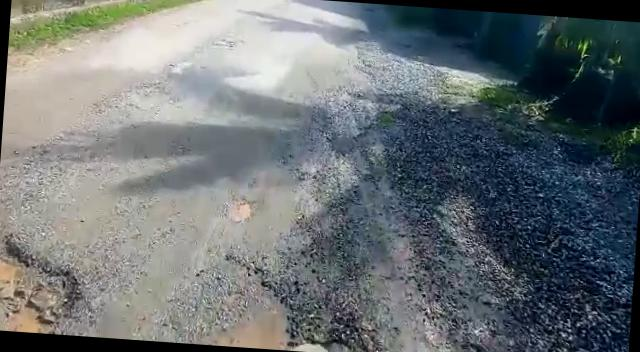pothole: (0, 234, 89, 334), (212, 298, 299, 350)
